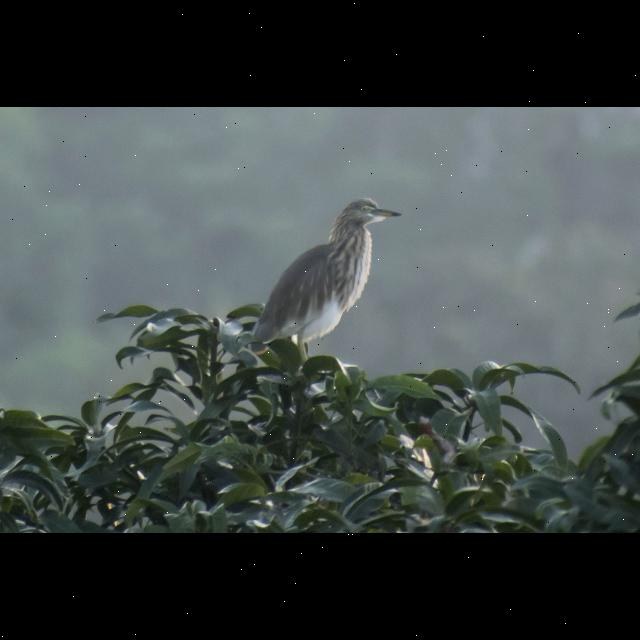heron: (256, 197, 402, 359)
